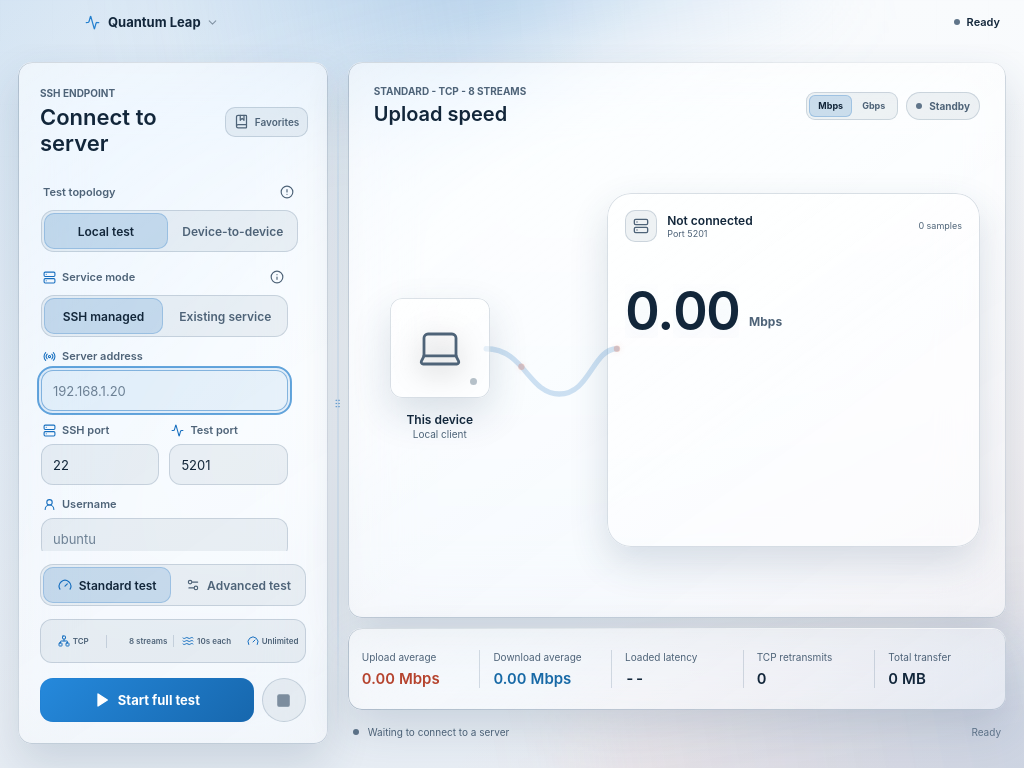
Scenario: saved server popover › renders readable server details and restores focus after Escape
This screenshot has width=1024, height=768.
Click the button "Favorites" at [267, 122], box [225, 106, 308, 136]
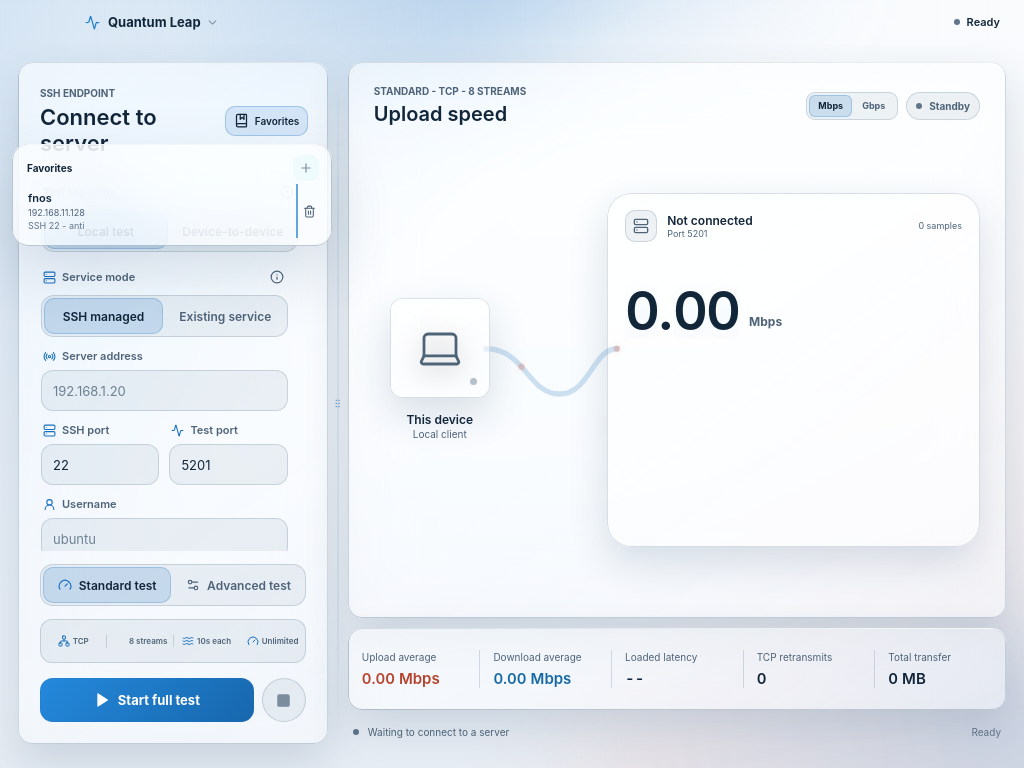
Now the text "fnos" is shown, box [28, 191, 52, 205]
Now the text "192.168.11.128" is shown, box [28, 207, 85, 218]
Now the text "SSH 22 - anti" is shown, box [28, 220, 84, 231]
Press Escape
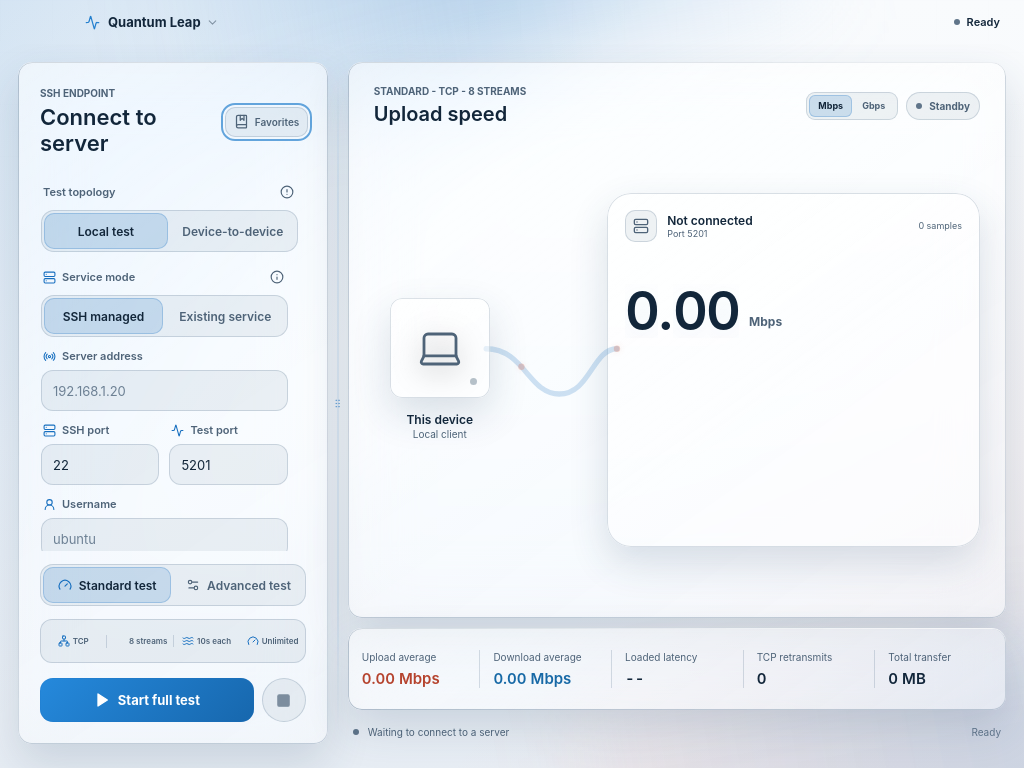
Now the button "fnos" is gone
